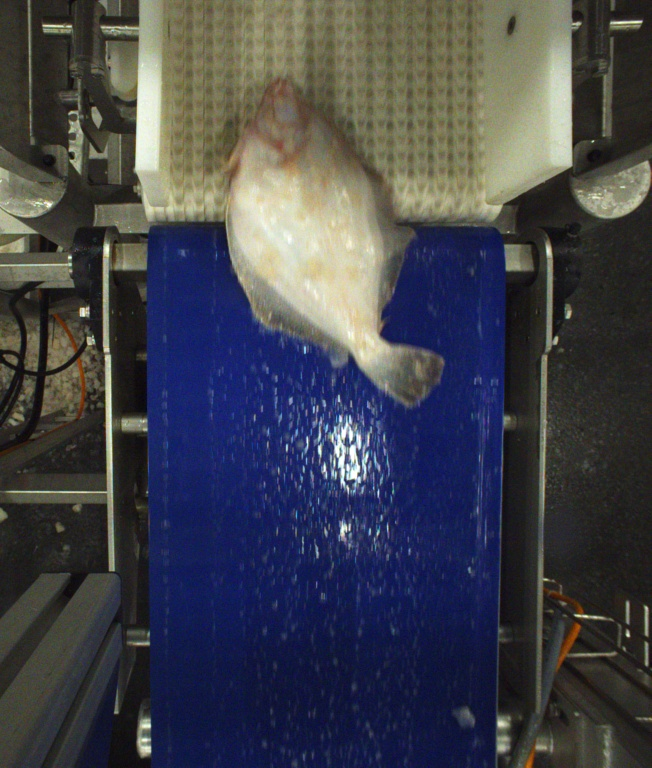PLE: (223, 77, 447, 408)
